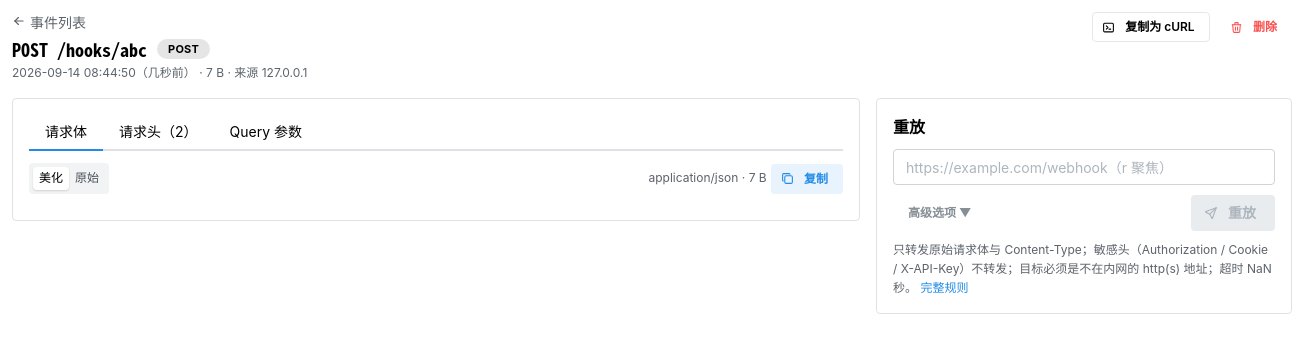
Test case: EventScreen blocked address warning › says so when this instance does allow the address
Expected: the heading "POST /hooks/abc" is shown, [12,36,147,62]
Type "http://127.0.0.1:3000/webhook" into the field named "重放目标地址" at (1084, 167), box [893,149,1275,185]
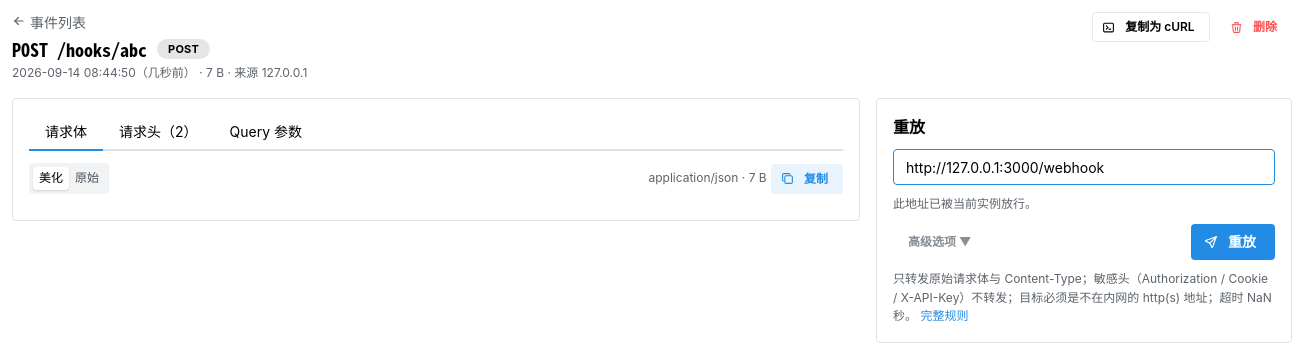
Now the text "此地址已被当前实例放行。" is shown, box [893,196,1037,211]
